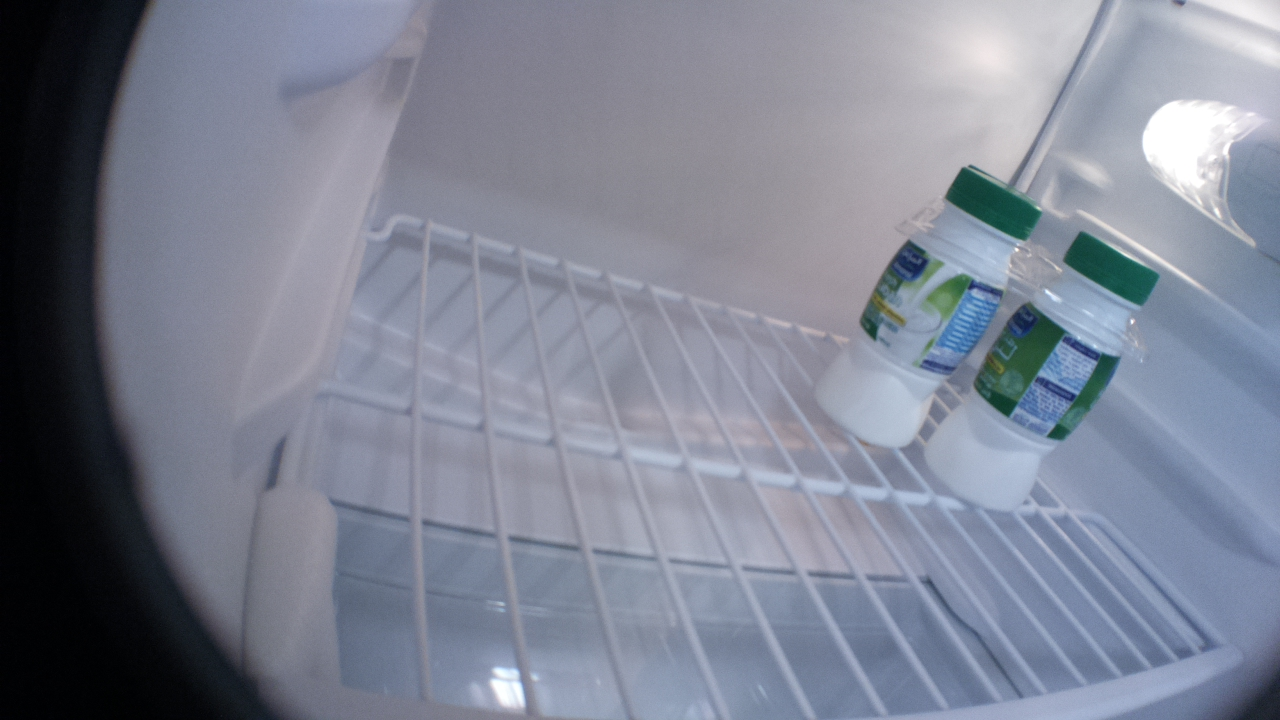laban: (921, 228, 1161, 513), (814, 166, 1044, 450)
